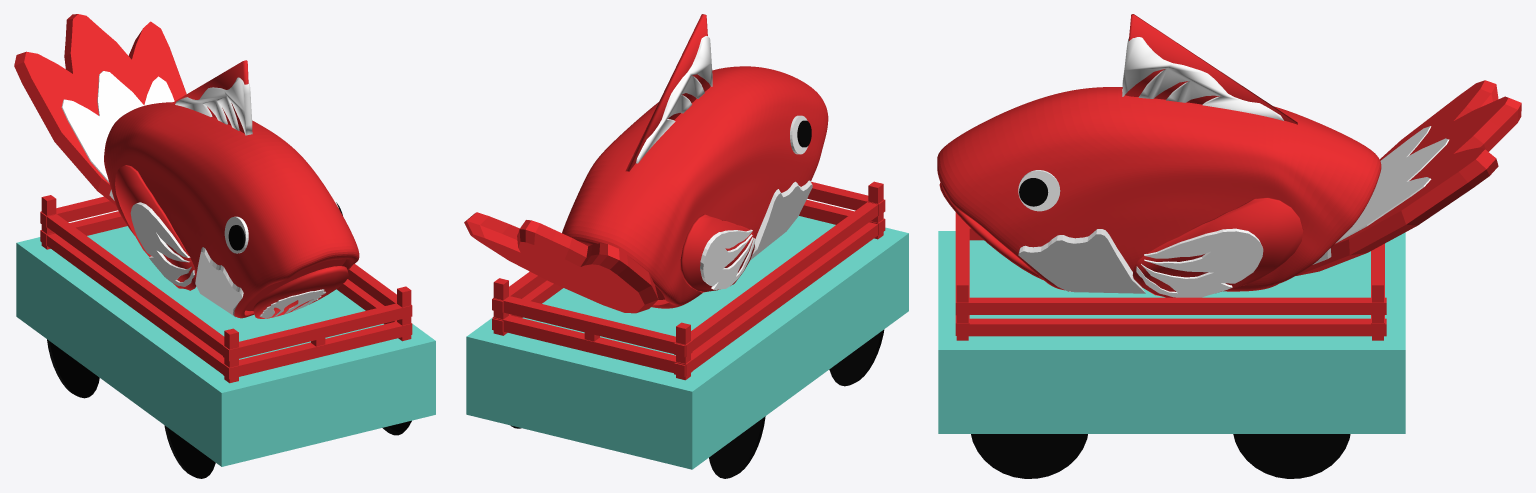
The model's file is kingyodaiwa.glb.
The picture shows the model from 3 angles, left to right: view 1: azimuth 30°, elevation 25°; view 2: azimuth 150°, elevation 25°; view 3: azimuth 270°, elevation 25°; orthographic projection. The views are drawn at different scales.
Visible parts, largest first — view 1: 円, 台, 円.001, 車輪; view 2: 円, 台, 円.001, 車輪; view 3: 円, 台, 円.001, 車輪, brack.
Part boxes in pixels (left/top/right/bottom): 円: left=14, top=14, right=412, bottom=383; 台: left=16, top=226, right=435, bottom=466; 円.001: left=61, top=71, right=338, bottom=318; 車輪: left=47, top=339, right=411, bottom=478; 円: left=464, top=14, right=885, bottom=380; 台: left=466, top=216, right=908, bottom=469; 円.001: left=636, top=36, right=812, bottom=289; 車輪: left=510, top=329, right=884, bottom=478; 円: left=937, top=14, right=1521, bottom=340; 台: left=938, top=231, right=1405, bottom=433; 円.001: left=1018, top=37, right=1449, bottom=297; 車輪: left=971, top=434, right=1350, bottom=478; brack: left=1019, top=178, right=1048, bottom=206.
Bounding box in the file's own units: 1.92 × 3.09 × 3.98.
